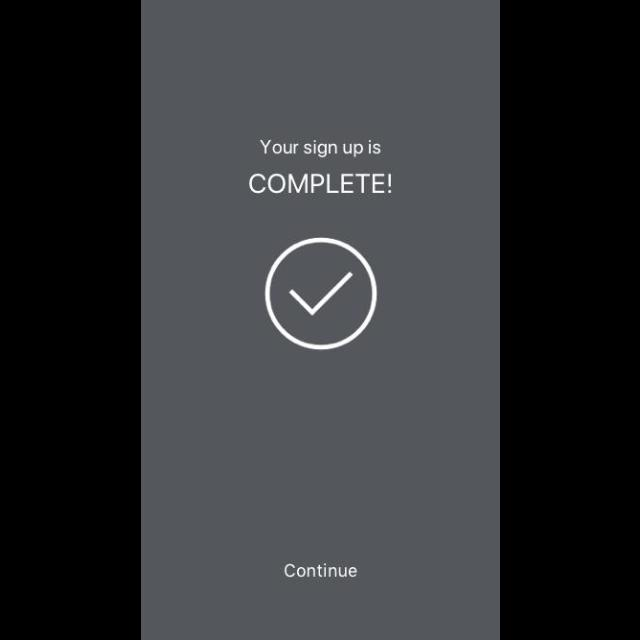image: (265, 238, 377, 350)
text: (249, 174, 391, 194), (260, 140, 380, 158), (284, 563, 358, 577)
